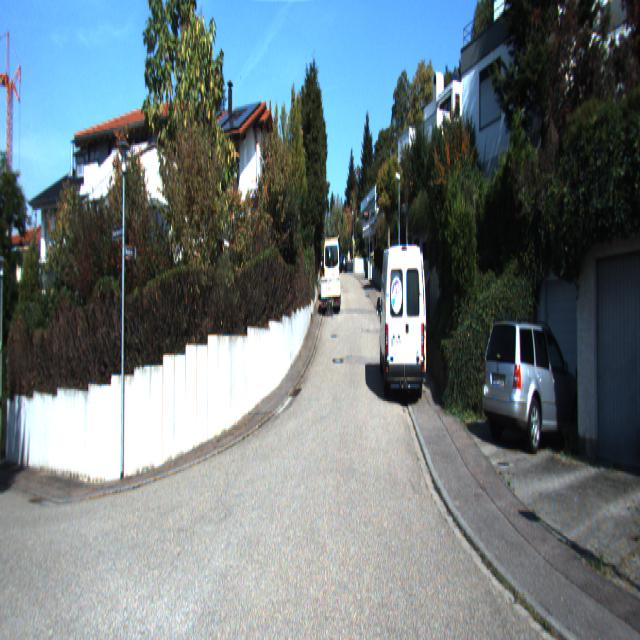Car: (482, 318, 596, 456), (378, 234, 429, 399), (323, 237, 339, 304), (320, 274, 342, 308)
